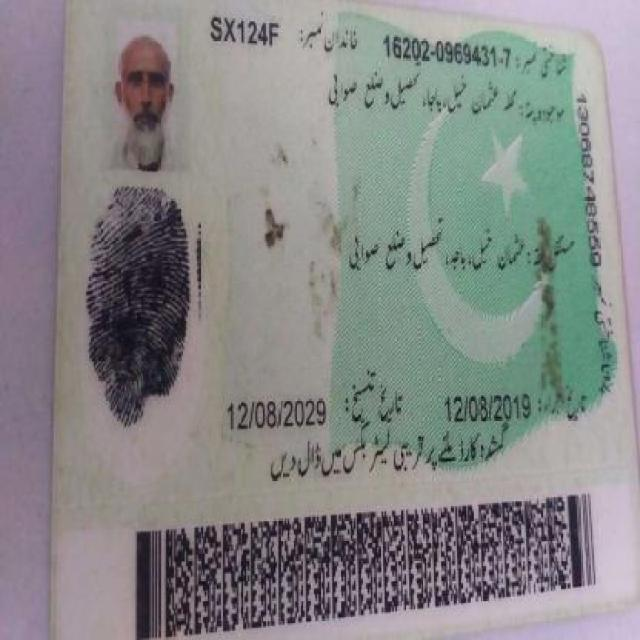Back: (68, 5, 628, 632)
